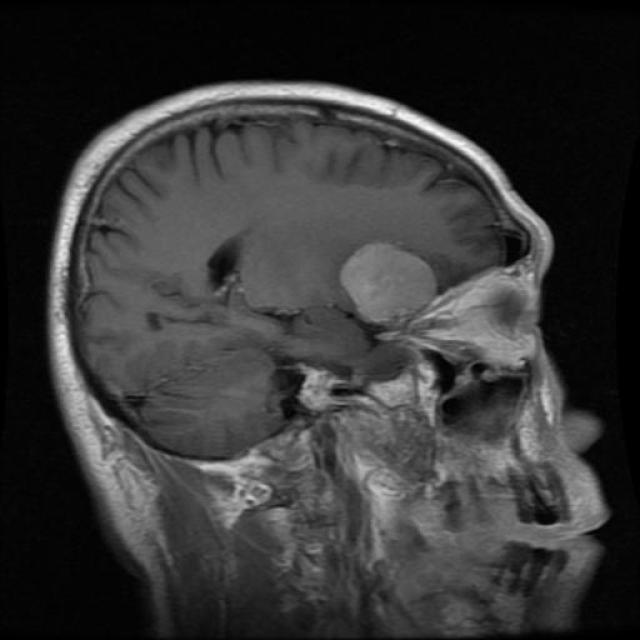meningioma: (333, 217, 439, 328)
